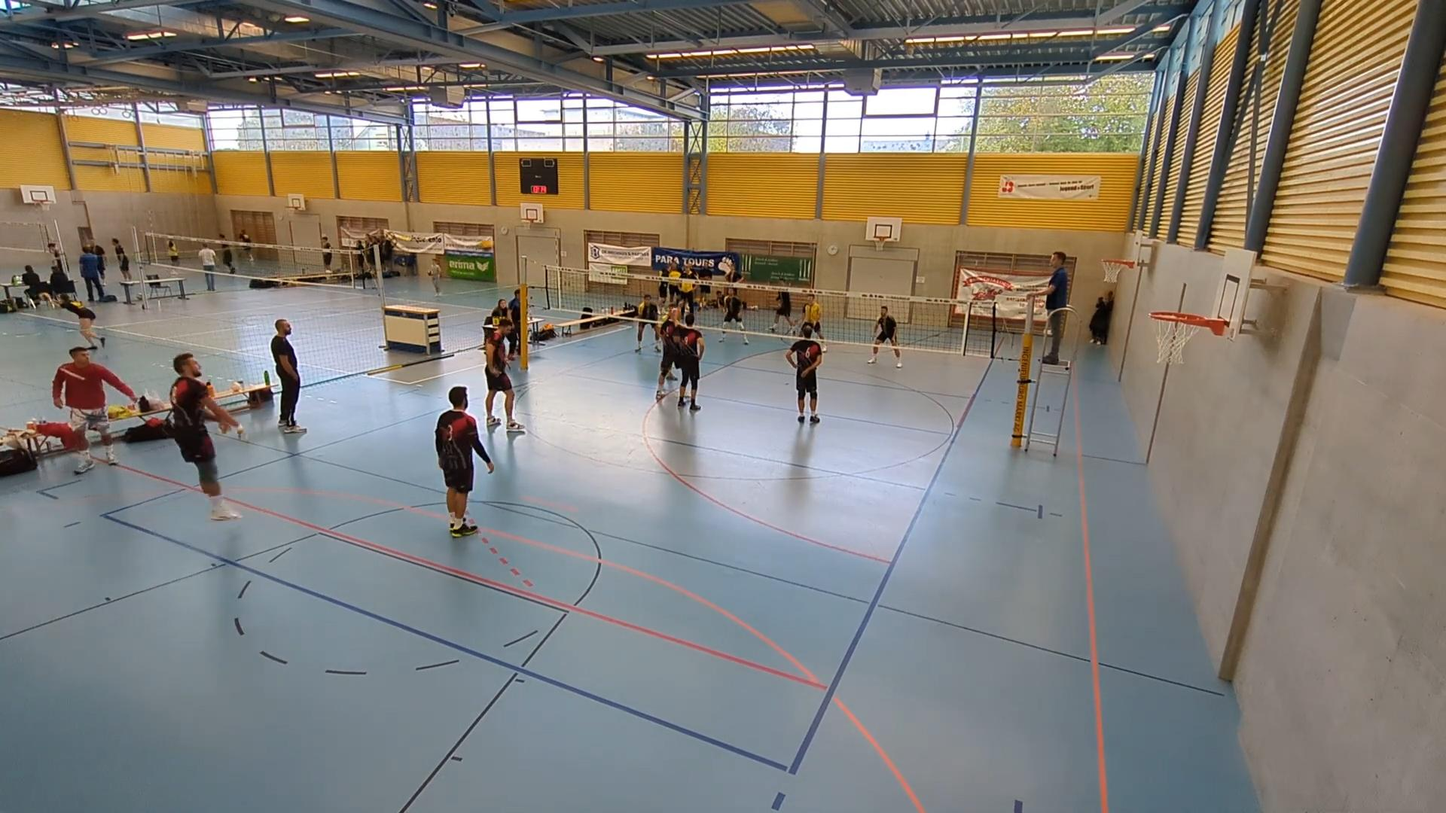battuta: (170, 354, 246, 526)
